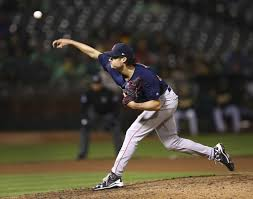baseball: (32, 8, 42, 20)
baseball player: (51, 36, 237, 191)
